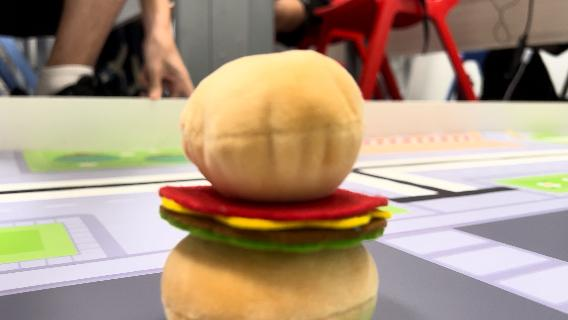burger: (159, 51, 389, 320)
